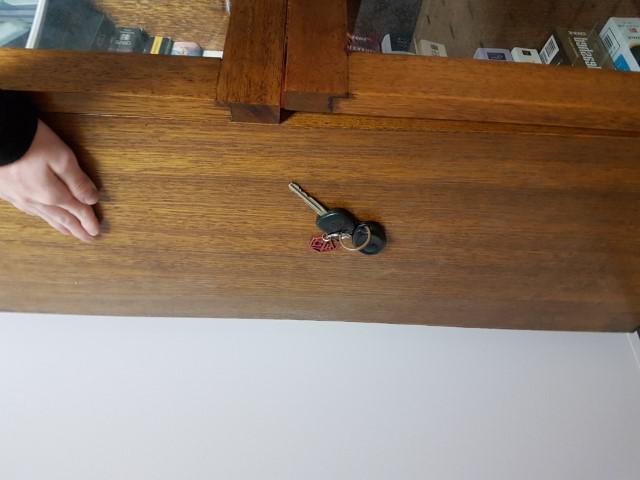key: (288, 180, 358, 237)
